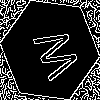W: (25, 25, 81, 86)
